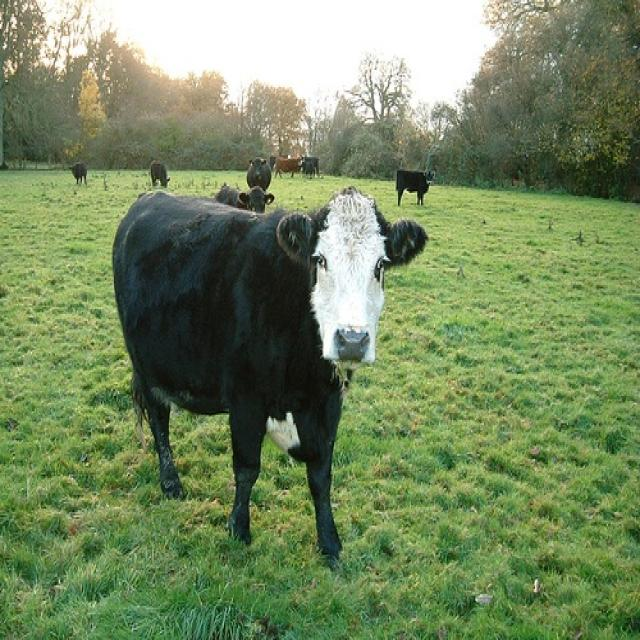cow: (110, 187, 429, 584), (215, 182, 273, 212), (394, 164, 435, 205), (245, 156, 272, 190), (64, 159, 90, 186), (147, 157, 169, 186), (275, 155, 302, 176)
